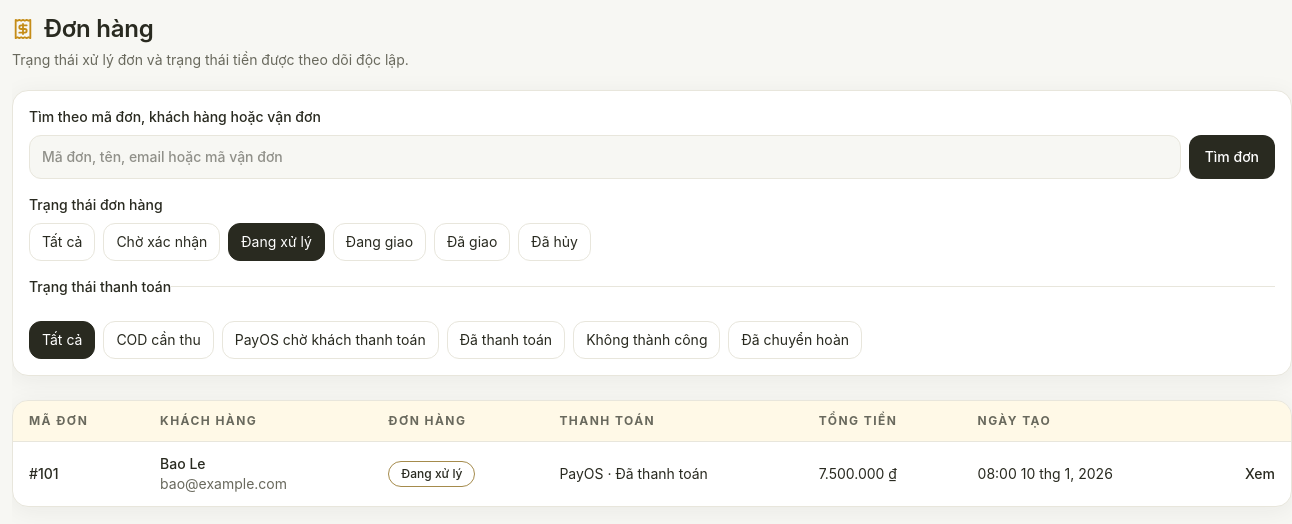
Scenario: AdminOrdersPage › searches orders through the server contract while preserving active filters
Check: the text "Bao Le" is shown, box x1=160 y1=455 x2=206 y2=472
Type "GHN-7788" into the field labelled "Tìm theo mã đơn, khách hàng hoặc vận đơn" at [605, 157], box x1=29 y1=135 x2=1181 y2=179
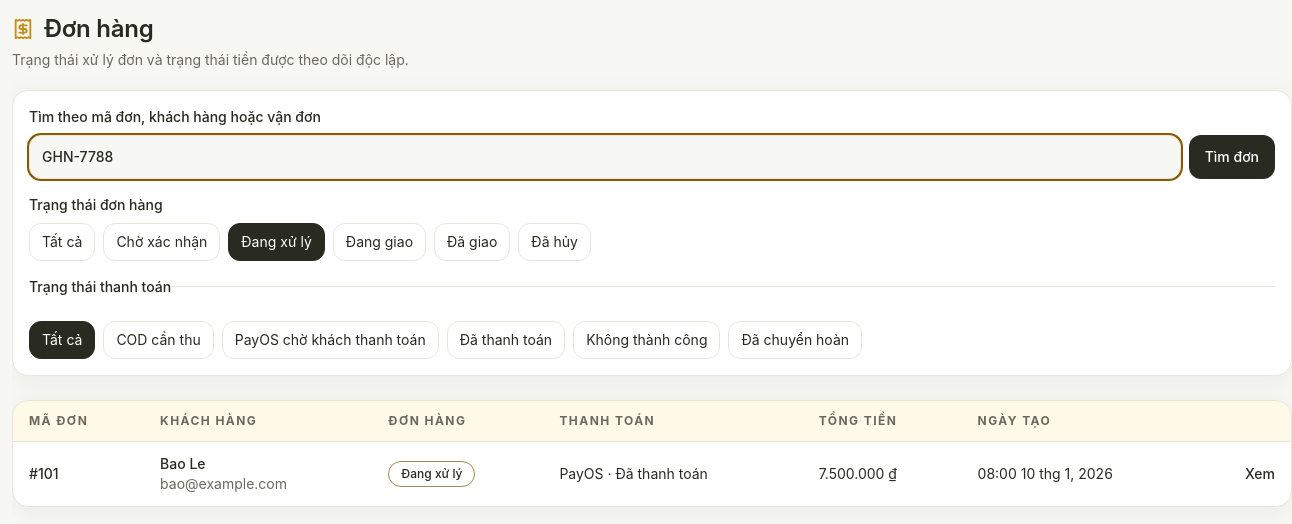
Click the button "Tìm đơn" at [1232, 157], box x1=1189 y1=135 x2=1275 y2=179
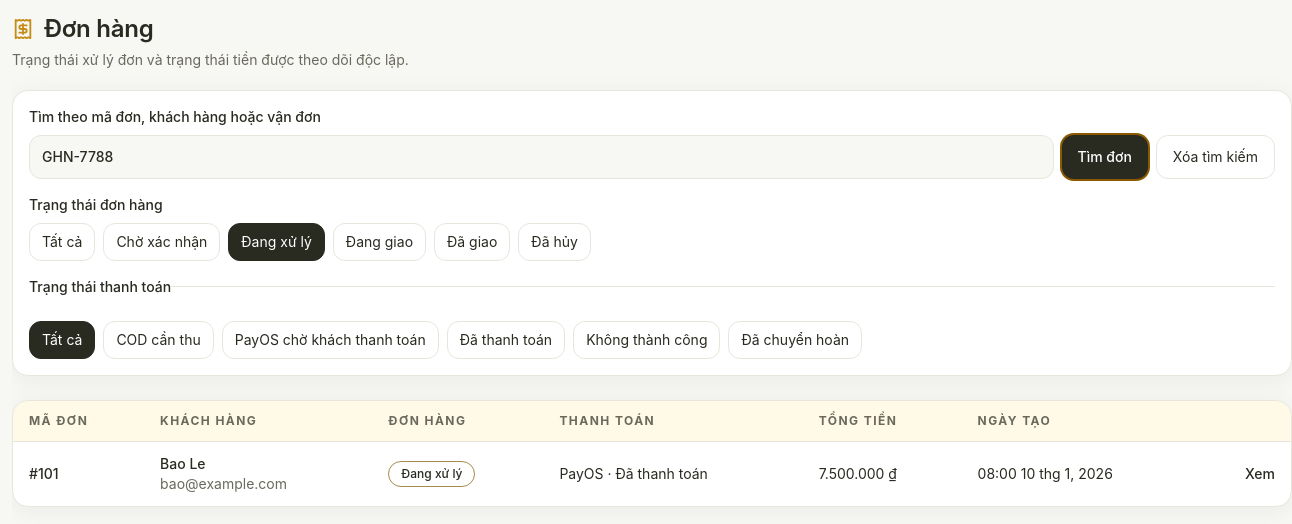
Check: the button "Xóa tìm kiếm" is shown, box x1=1156 y1=135 x2=1275 y2=179
